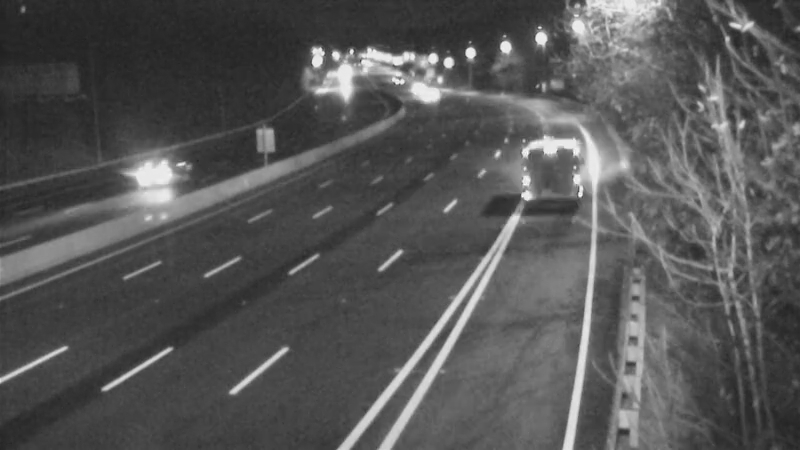vehicle: (497, 132, 577, 212), (108, 135, 188, 215), (388, 61, 438, 111), (403, 72, 453, 122)
